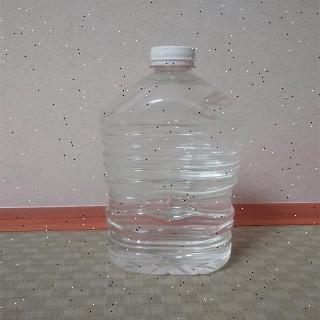Plastic-bottle: (101, 44, 246, 283)
